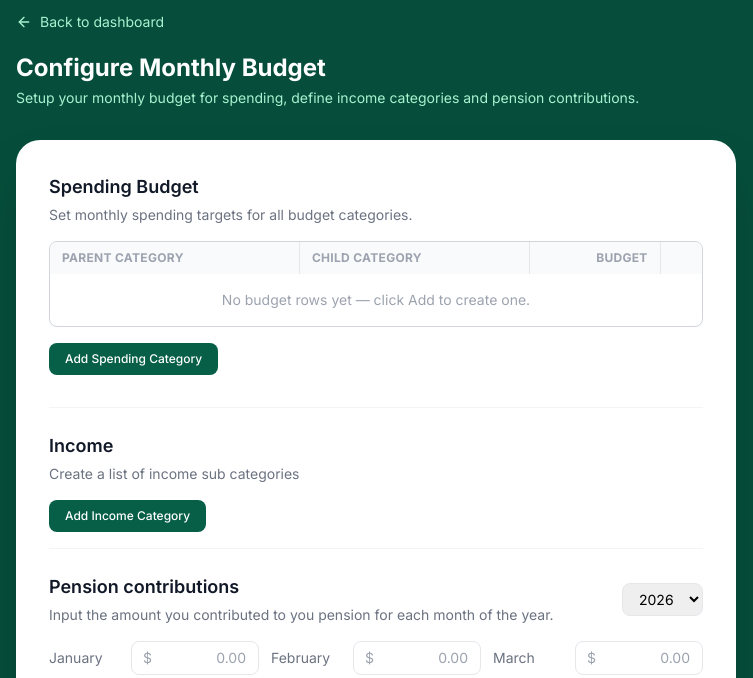
Scenario: BudgetSetupPage › adding a row for a childless category shows a single editable row
Expected: the text "No budget rows yet — click Add to create one." is shown, x1=50 y1=274 x2=702 y2=326
Click the button "Add Spending Category" at (134, 359), box x1=49 y1=343 x2=218 y2=375
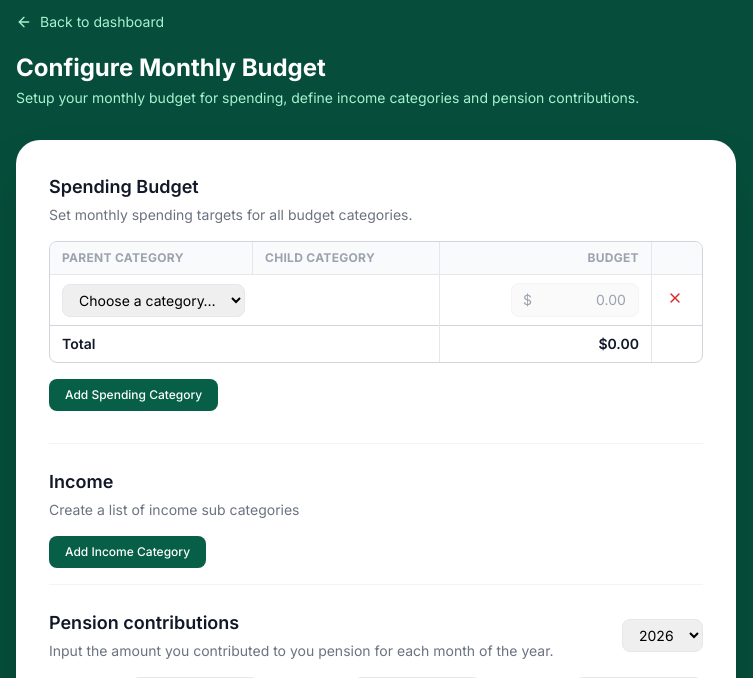
Select "Rent" in the dropdown named "Choose a category" at (154, 300), box x1=62 y1=284 x2=245 y2=316
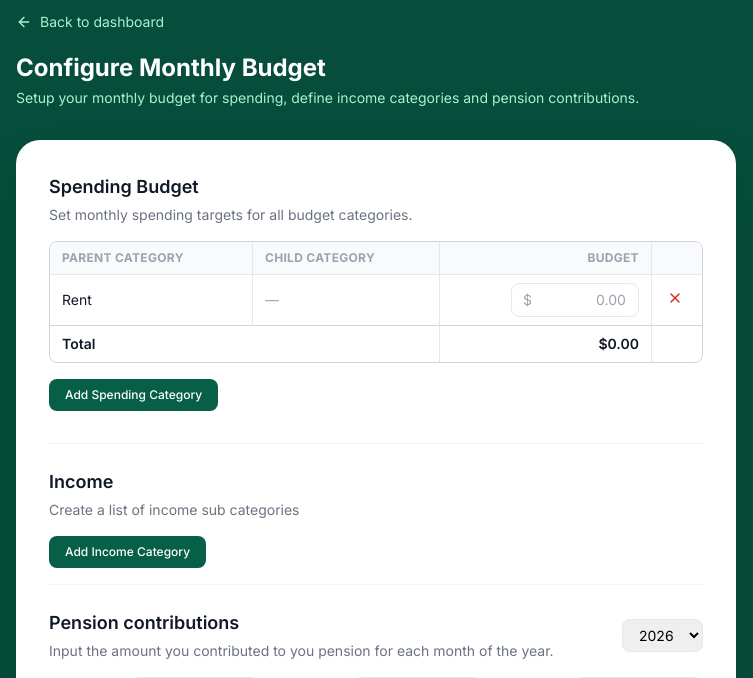
Expected: the text "Rent" is shown, x1=50 y1=274 x2=252 y2=326
